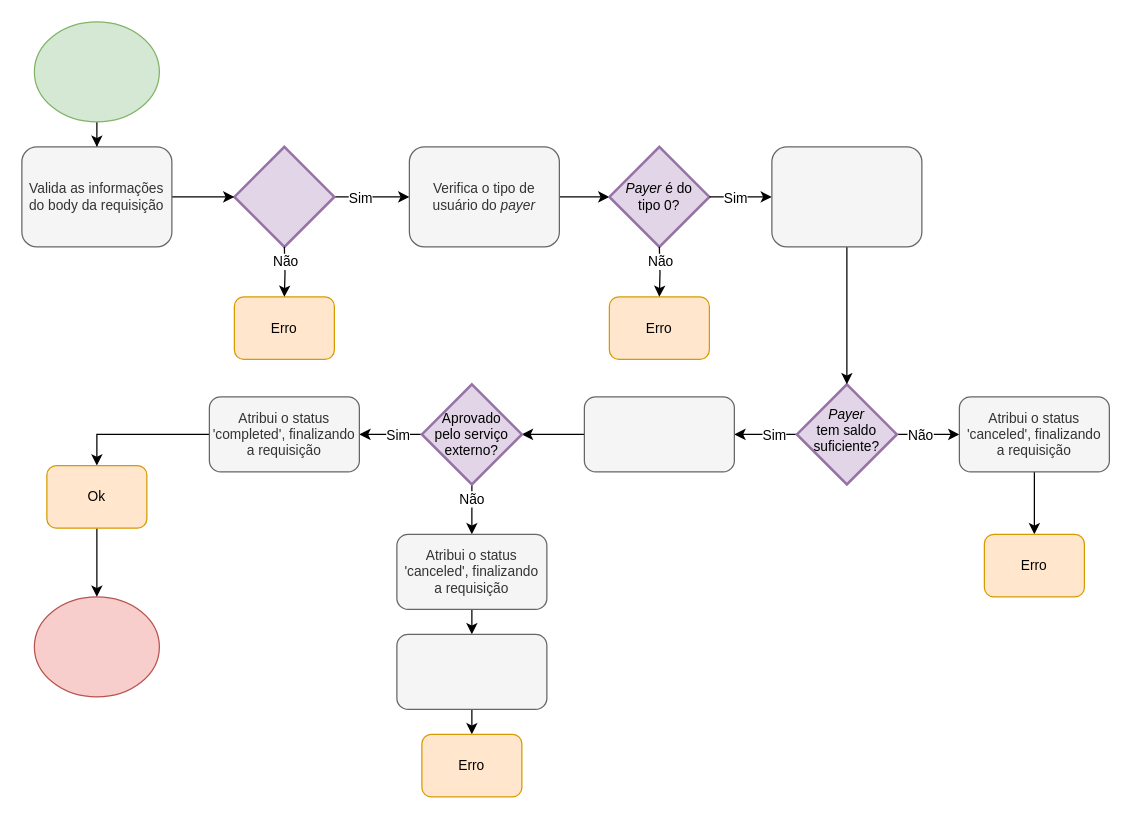
The diagram is 1131 pixels wide and 819 high, and some of its shapes have lost their labels. Here are the shapes that lost their labels. From the top down, the centre of each, then its label:
At point 96,71: "Recebe uma requisição de transferência".
At point 283,196: "Validação completa?".
At point 846,196: "Cria uma transação com o status 'pending'".
At point 658,434: "Decrementa o valor da carteira do payer e incrementa na carteira do payee".
At point 96,646: "Envia uma mensagem de sucesso para o payer".
At point 471,671: "Reverte a transação".
